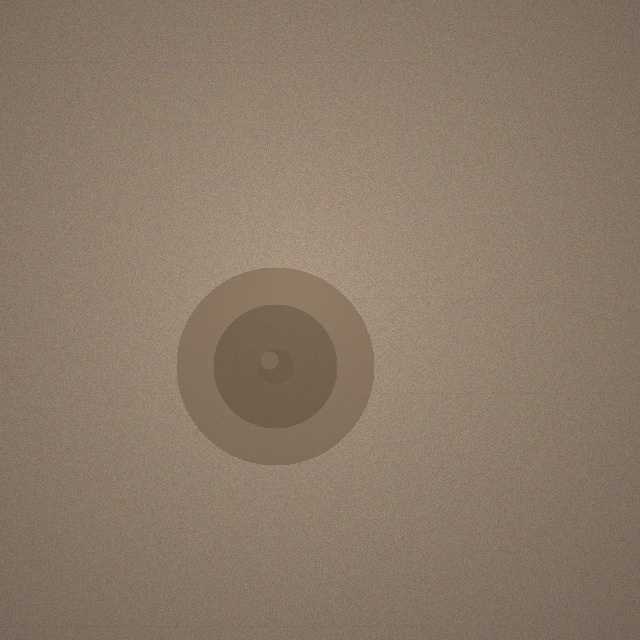good: (176, 267, 374, 465)
